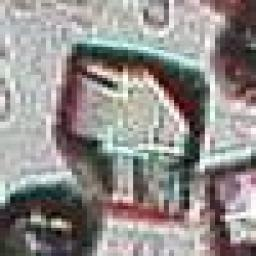crystals: (51, 37, 205, 222)
